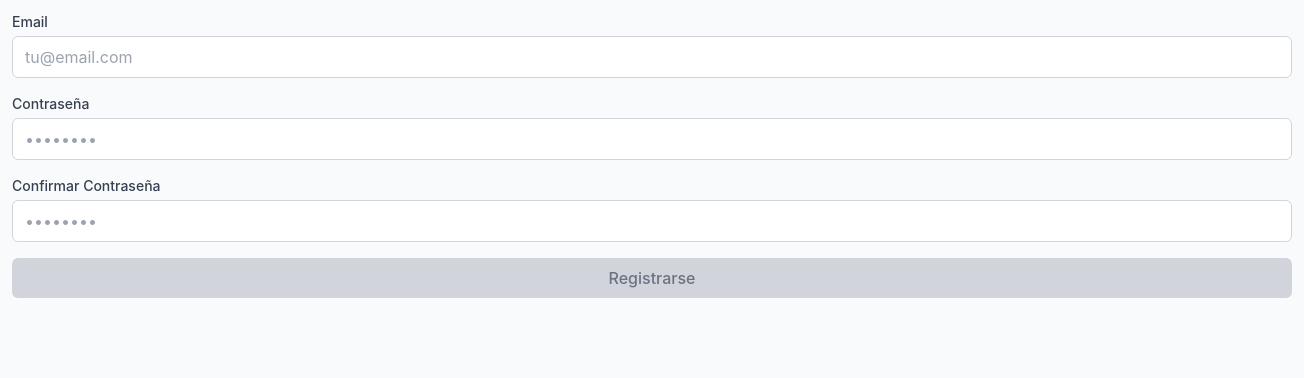
Test case: RegisterForm › should display server error message on registration failure
Type "existing@example.com" into the field labelled "Email" at (652, 57), box 12,36 -> 1292,78
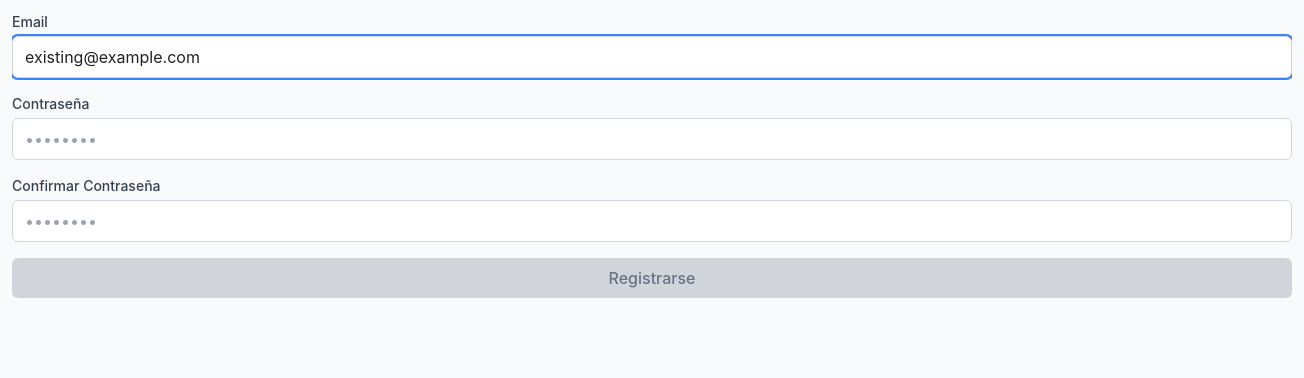
Type "Password123" into the password field labelled "Contraseña" at (652, 139), box 12,118 -> 1292,160
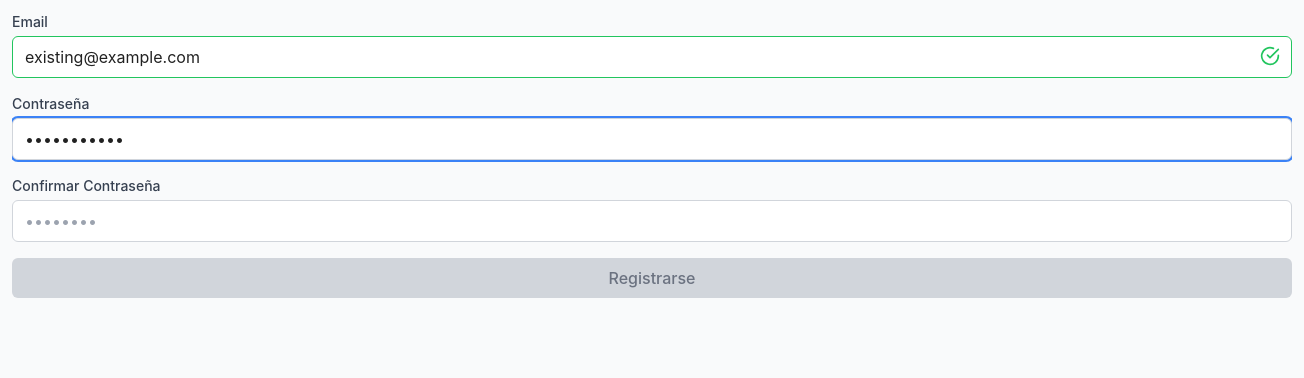
Type "Password123" into the password field labelled "Confirmar Contraseña" at (652, 221), box 12,200 -> 1292,242
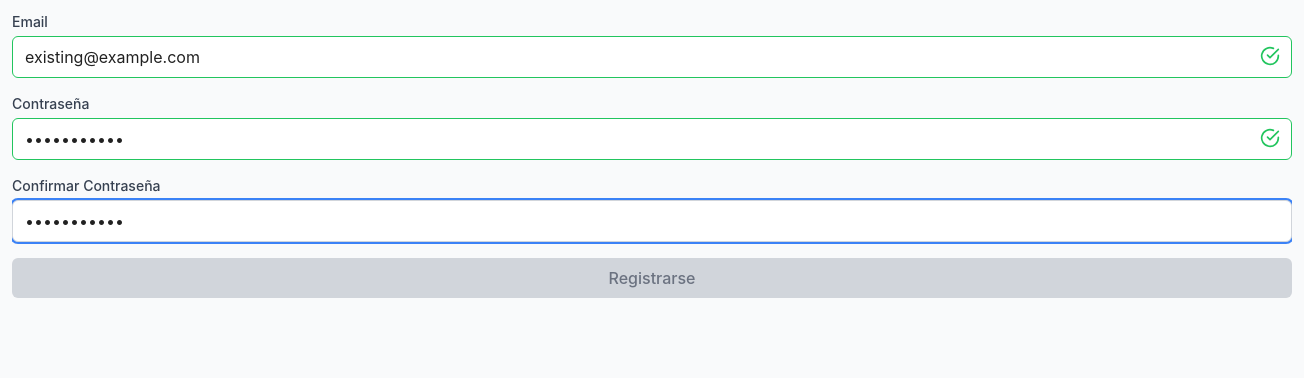
Note: Trigger blur to validate
Press Tab
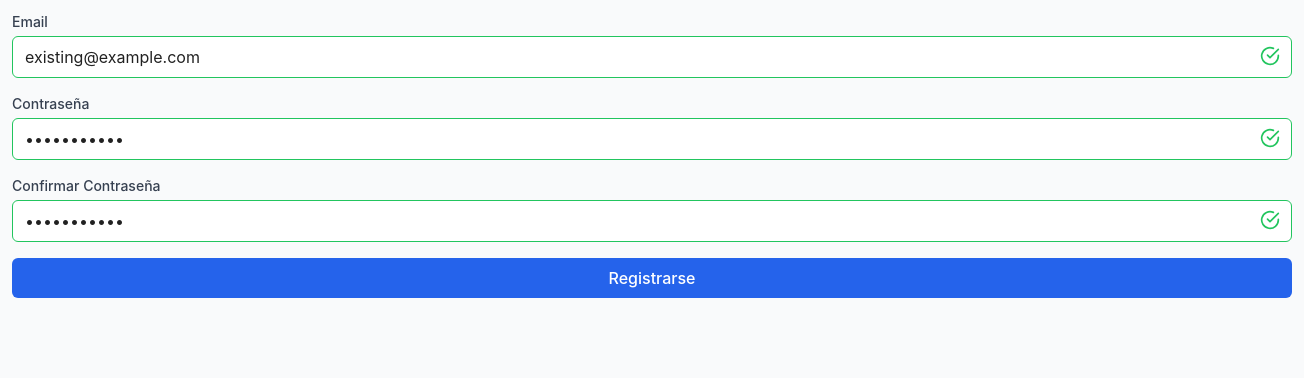
Press Tab
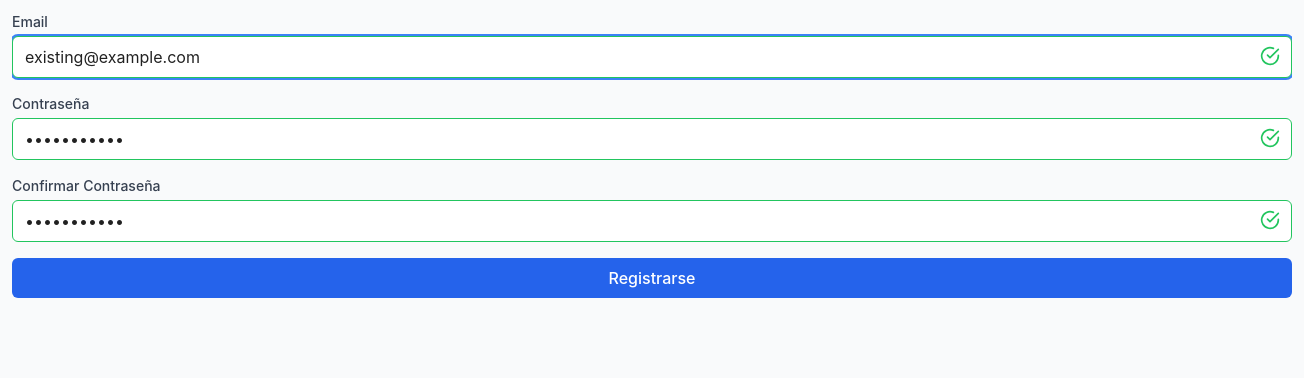
Result: the button "Registrarse" is enabled
Click the button "Registrarse" at (652, 278), box 12,258 -> 1292,298
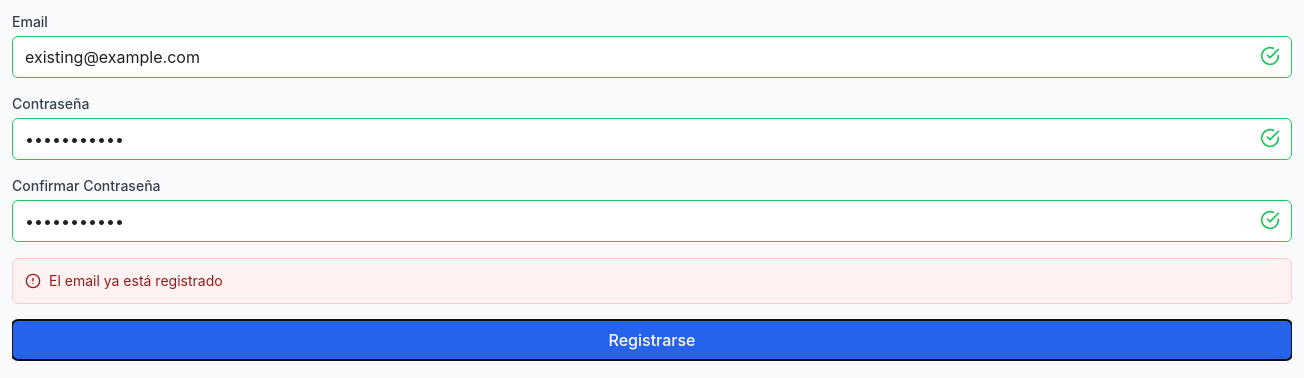
Result: the text "El email ya está registrado" is shown at 25,272 -> 223,289
